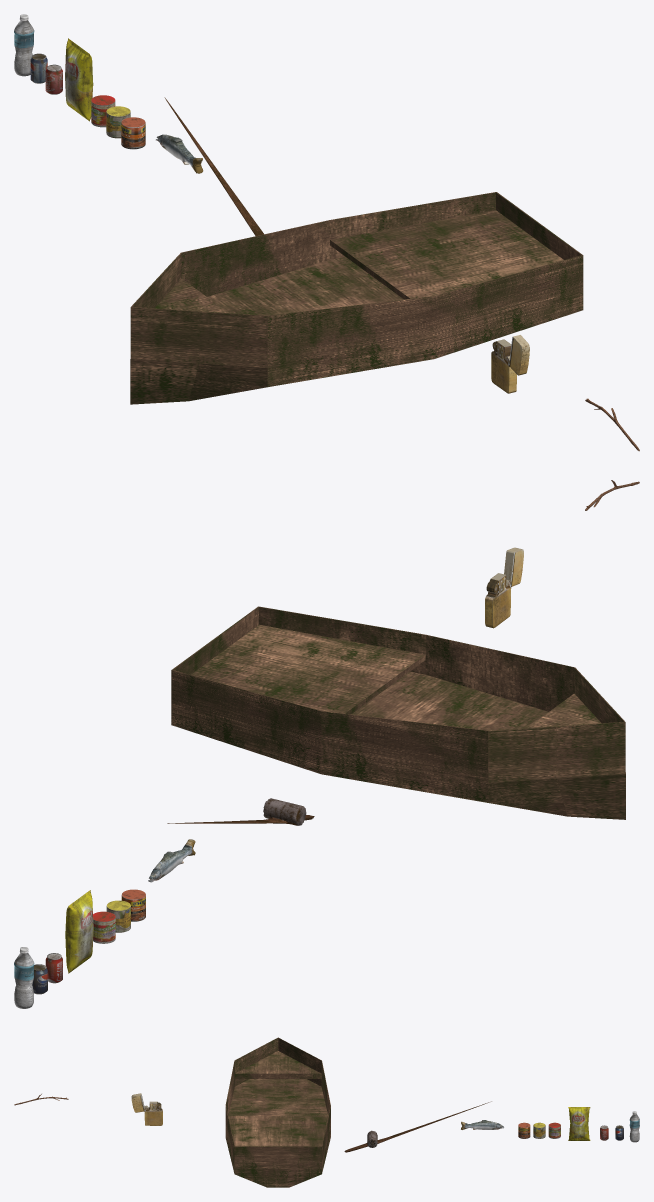
Rendered from yiyecekveicecekler.fbx.
The picture shows the model from 3 angles, top to bottom: view 1: azimuth 30°, elevation 25°; view 2: azimuth 150°, elevation 25°; view 3: azimuth 270°, elevation 25°; orthographic projection. The views are drawn at different scales.
Parts seen in each view (by area): view 1: sandal, Plane, çakmak, BezierCurve, olta, Cylinder, balık; view 2: sandal, Plane, çakmak, olta, BezierCurve, balık; view 3: sandal, Plane, çakmak, olta, balık, BezierCurve.
Boxes of the visible parts, <box> form: sandal: <box>130,192,583,404</box>; Plane: <box>65,38,93,121</box>; çakmak: <box>491,335,529,393</box>; BezierCurve: <box>14,14,34,76</box>; olta: <box>164,97,263,235</box>; Cylinder: <box>121,117,145,149</box>; balık: <box>156,134,203,173</box>; sandal: <box>171,606,625,819</box>; Plane: <box>65,890,93,973</box>; çakmak: <box>485,547,523,628</box>; olta: <box>167,798,314,825</box>; BezierCurve: <box>14,947,34,1008</box>; balık: <box>148,839,195,882</box>; sandal: <box>225,1037,330,1187</box>; Plane: <box>568,1107,590,1140</box>; çakmak: <box>131,1093,162,1125</box>; olta: <box>344,1101,491,1152</box>; balık: <box>461,1120,503,1129</box>; BezierCurve: <box>629,1111,639,1142</box>.
Size of the model in its own units: 2172 by 590 by 5691.
12 materials, 12 textured.
